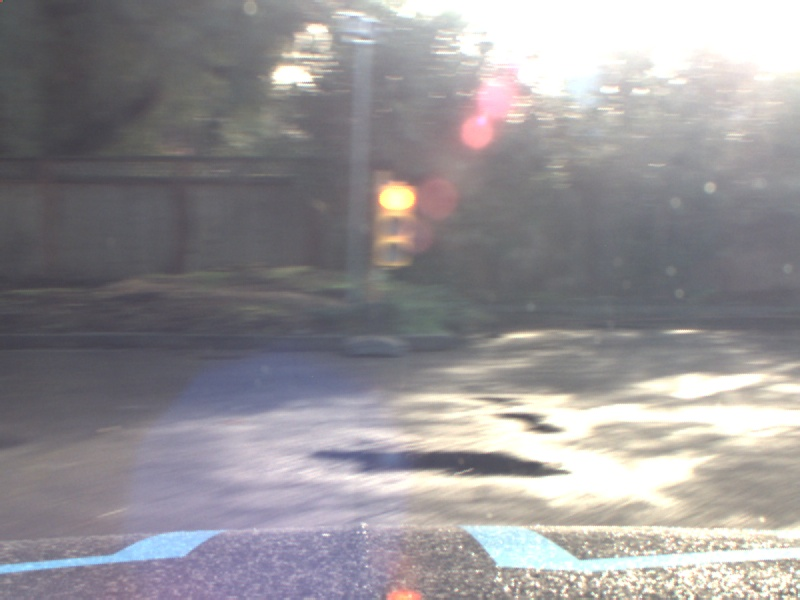Red: (376, 183, 418, 272)
